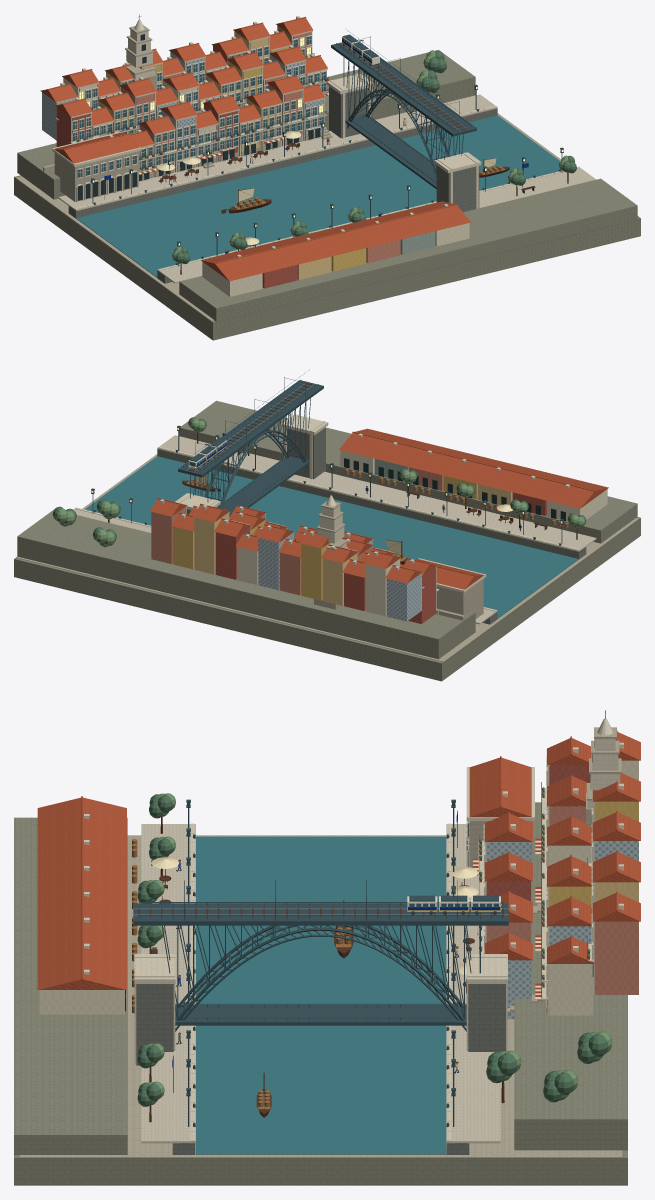
File: porto-reference.glb
3 views of the same model, one above another, from view 1: azimuth 30°, elevation 25°; view 2: azimuth 150°, elevation 25°; view 3: azimuth 270°, elevation 25° (orthographic). The views are drawn at different scales.
Visible parts, largest first — view 1: Porto_arquitetura_Corte de terreno, Porto_arquitetura_Douro agua, Porto_arquitetura_Telha ceramica, Porto_arquitetura_Cantaria clara, Porto_arquitetura_Ferro pintado da ponte, Porto_arquitetura_Calcada portuguesa, Porto_arquitetura_Muralha de granito, Porto_arquitetura_Vidro das janelas, Porto_arquitetura_Granito do cais, Porto_arquitetura_Reboco marfim, Porto_arquitetura_Vao de janela, Porto_arquitetura_Folhagem (+10 smaller); view 2: Porto_arquitetura_Corte de terreno, Porto_arquitetura_Douro agua, Porto_arquitetura_Telha ceramica, Porto_arquitetura_Ferro pintado da ponte, Porto_arquitetura_Calcada portuguesa, Porto_arquitetura_Muralha de granito, Porto_arquitetura_Granito do cais, Porto_arquitetura_Cantaria clara, Porto_arquitetura_Reboco marfim, Porto_arquitetura_Reboco vermelho, Porto_arquitetura_Reboco amarelo, Porto_arquitetura_Azulejo azul e branco (+7 smaller); view 3: Porto_arquitetura_Douro agua, Porto_arquitetura_Corte de terreno, Porto_arquitetura_Telha ceramica, Porto_arquitetura_Ferro pintado da ponte, Porto_arquitetura_Calcada portuguesa, Porto_arquitetura_Cantaria clara, Porto_arquitetura_Granito do cais, Porto_arquitetura_Muralha de granito, Porto_arquitetura_Reboco marfim, Porto_arquitetura_Folhagem, Porto_arquitetura_Reboco rosa, Porto_arquitetura_Azulejo azul e branco (+8 smaller).
Boxes of the visible parts, left/top/right/bottom form: Porto_arquitetura_Corte de terreno: left=14, top=50, right=640, bottom=340; Porto_arquitetura_Douro agua: left=76, top=115, right=561, bottom=277; Porto_arquitetura_Telha ceramica: left=40, top=16, right=470, bottom=281; Porto_arquitetura_Cantaria clara: left=52, top=16, right=580, bottom=270; Porto_arquitetura_Ferro pintado da ponte: left=57, top=14, right=563, bottom=266; Porto_arquitetura_Calcada portuguesa: left=58, top=94, right=595, bottom=283; Porto_arquitetura_Muralha de granito: left=68, top=86, right=497, bottom=283; Porto_arquitetura_Vidro das janelas: left=73, top=36, right=325, bottom=177; Porto_arquitetura_Granito do cais: left=16, top=25, right=638, bottom=321; Porto_arquitetura_Reboco marfim: left=63, top=68, right=469, bottom=296; Porto_arquitetura_Vao de janela: left=73, top=34, right=324, bottom=200; Porto_arquitetura_Folhagem: left=76, top=50, right=576, bottom=263; Porto_arquitetura_Corte de terreno: left=14, top=400, right=640, bottom=681; Porto_arquitetura_Douro agua: left=85, top=456, right=578, bottom=618; Porto_arquitetura_Telha ceramica: left=150, top=428, right=608, bottom=589; Porto_arquitetura_Ferro pintado da ponte: left=91, top=369, right=563, bottom=588; Porto_arquitetura_Calcada portuguesa: left=73, top=435, right=596, bottom=624; Porto_arquitetura_Muralha de granito: left=157, top=427, right=586, bottom=624; Porto_arquitetura_Granito do cais: left=16, top=454, right=638, bottom=661; Porto_arquitetura_Cantaria clara: left=75, top=414, right=579, bottom=611; Porto_arquitetura_Reboco marfim: left=237, top=450, right=607, bottom=616; Porto_arquitetura_Reboco vermelho: left=215, top=492, right=546, bottom=623; Porto_arquitetura_Reboco amarelo: left=194, top=484, right=512, bottom=605; Porto_arquitetura_Azulejo azul e branco: left=258, top=533, right=421, bottom=621; Porto_arquitetura_Douro agua: left=196, top=836, right=446, bottom=1154; Porto_arquitetura_Corte de terreno: left=14, top=802, right=627, bottom=1185; Porto_arquitetura_Telha ceramica: left=37, top=730, right=640, bottom=989; Porto_arquitetura_Ferro pintado da ponte: left=133, top=710, right=605, bottom=1126; Porto_arquitetura_Calcada portuguesa: left=141, top=824, right=500, bottom=1143; Porto_arquitetura_Cantaria clara: left=84, top=718, right=623, bottom=1141; Porto_arquitetura_Granito do cais: left=19, top=727, right=622, bottom=1158; Porto_arquitetura_Muralha de granito: left=136, top=984, right=505, bottom=1154; Porto_arquitetura_Reboco marfim: left=39, top=760, right=638, bottom=1015; Porto_arquitetura_Folhagem: left=137, top=787, right=608, bottom=1106; Porto_arquitetura_Reboco rosa: left=486, top=806, right=638, bottom=994; Porto_arquitetura_Azulejo azul e branco: left=486, top=841, right=638, bottom=1019.
Size of the model in its own units: 67 by 23.5 by 55.13.
Materials: 30 (15 with a texture image).
